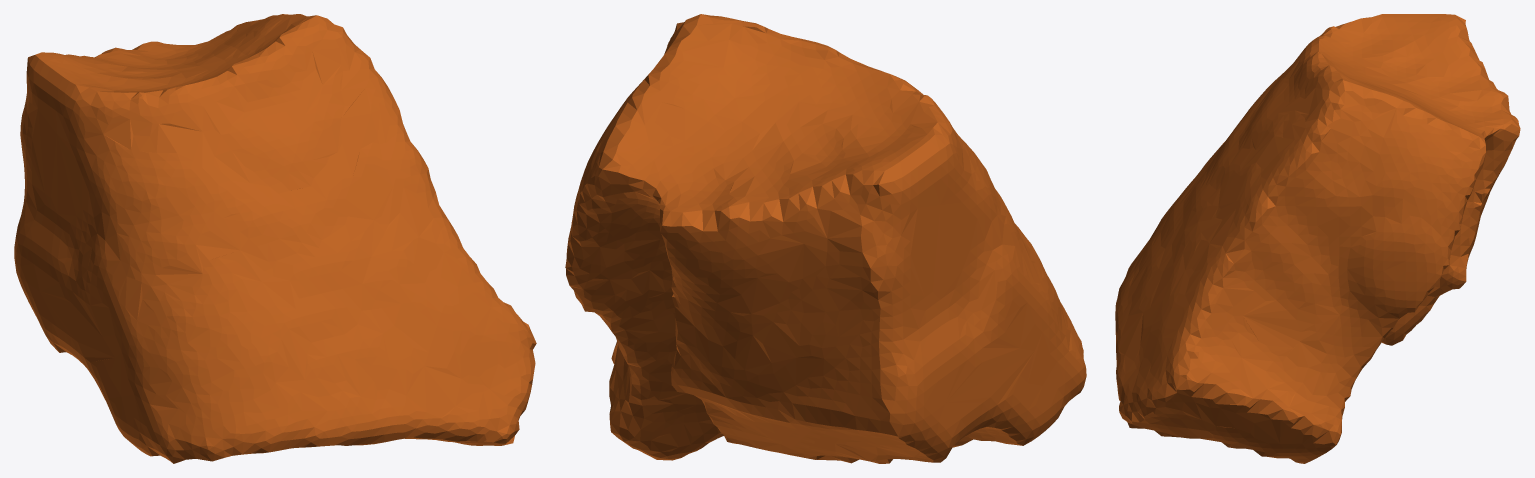
The model's file is Model_40_RH__Area_8b_of_cortex_(A8b).obj.
3 views of the same model, side by side, from view 1: azimuth 30°, elevation 25°; view 2: azimuth 150°, elevation 25°; view 3: azimuth 270°, elevation 25° (orthographic). The views are drawn at different scales.
Bounding box in the file's own units: 3.39 × 3.58 × 3.66.
